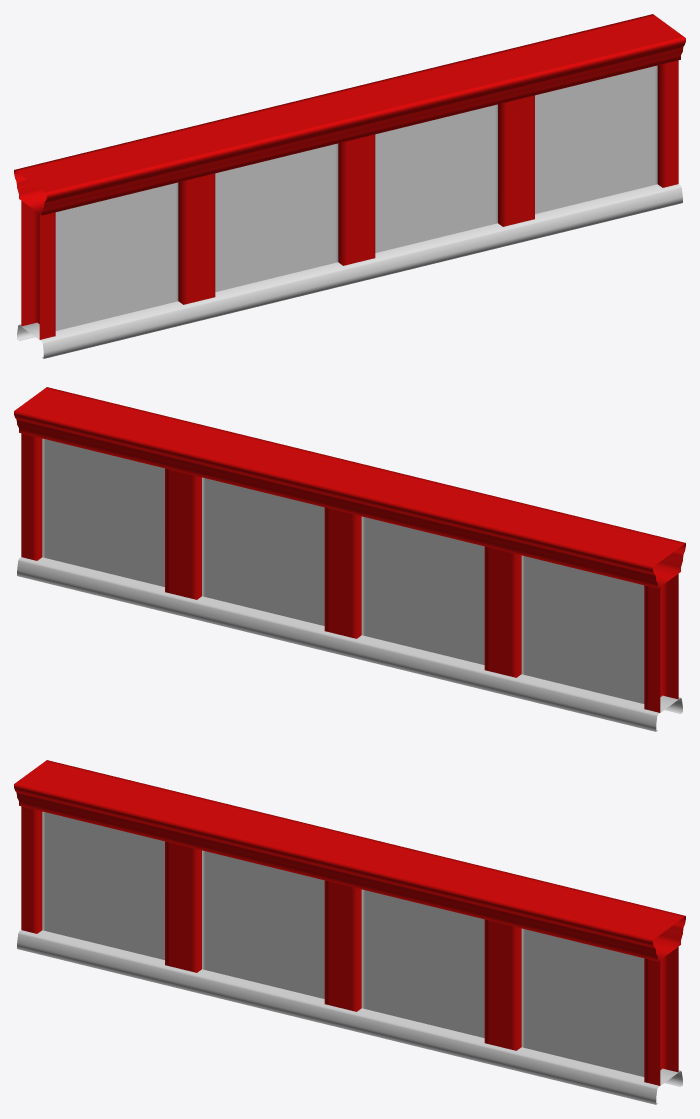
Rendered from SM_RailA4m.fbx.
3 renders of one model, top to bottom at view 1: azimuth 30°, elevation 25°; view 2: azimuth 150°, elevation 25°; view 3: azimuth 330°, elevation 25°, orthographic.
Visible parts, largest first — view 1: SM_RailA4m; view 2: SM_RailA4m; view 3: SM_RailA4m.
Boxes of the visible parts, left/top/right/bottom form: SM_RailA4m: left=14, top=14, right=685, bottom=358; SM_RailA4m: left=14, top=387, right=685, bottom=731; SM_RailA4m: left=14, top=760, right=685, bottom=1104.
Bounding box in the file's own units: 400 × 100 × 35.73.
